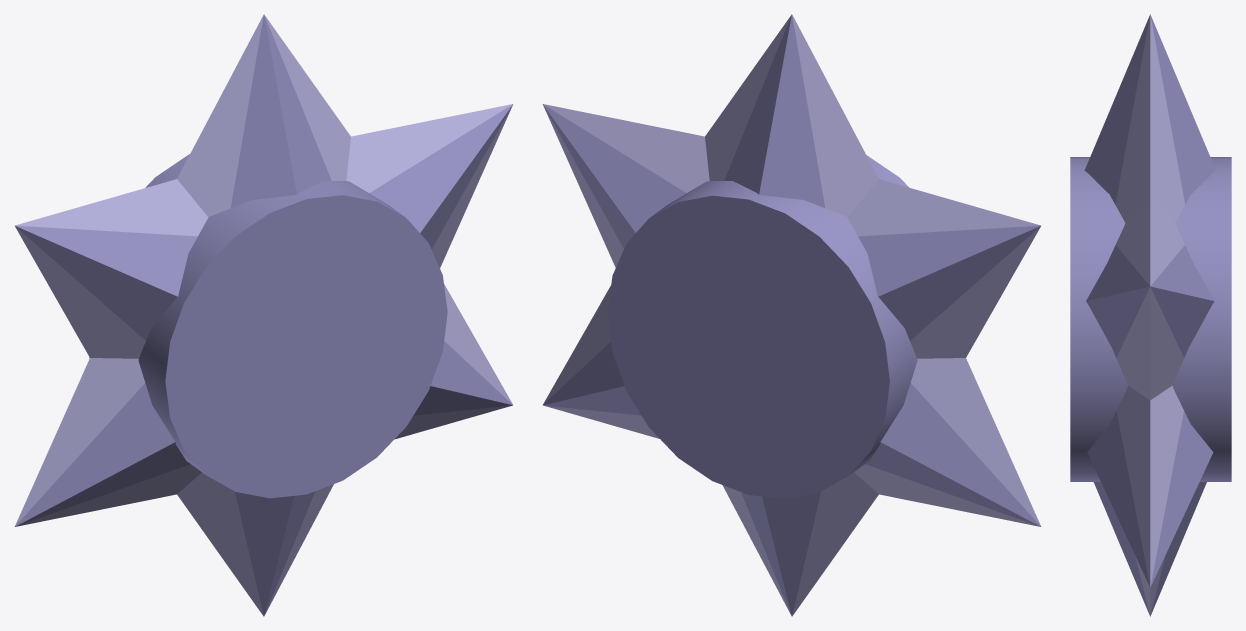
File: Blade.fbx
3 renders of one model, left to right at view 1: azimuth 30°, elevation 25°; view 2: azimuth 150°, elevation 25°; view 3: azimuth 270°, elevation 25°, orthographic.
Visible parts, largest first — view 1: mergedBlocks; view 2: mergedBlocks; view 3: mergedBlocks.
Boxes of the visible parts, x1,y1,x2,y2 form: mergedBlocks: (14,14,513,616); mergedBlocks: (542,14,1041,616); mergedBlocks: (1070,14,1231,616).
Bounding box in the file's own units: 8.66 × 10 × 2.42.
